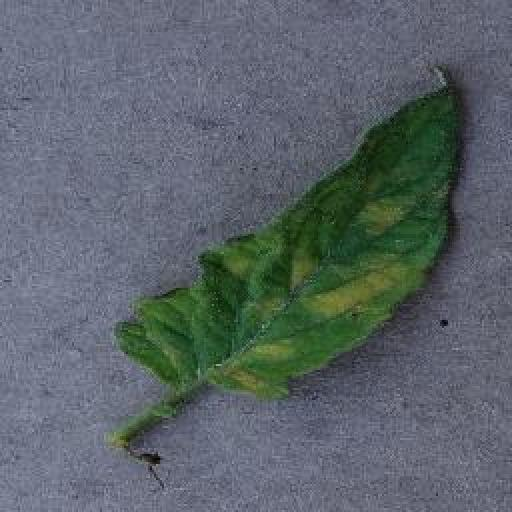disease_tomato: (116, 76, 458, 400)
